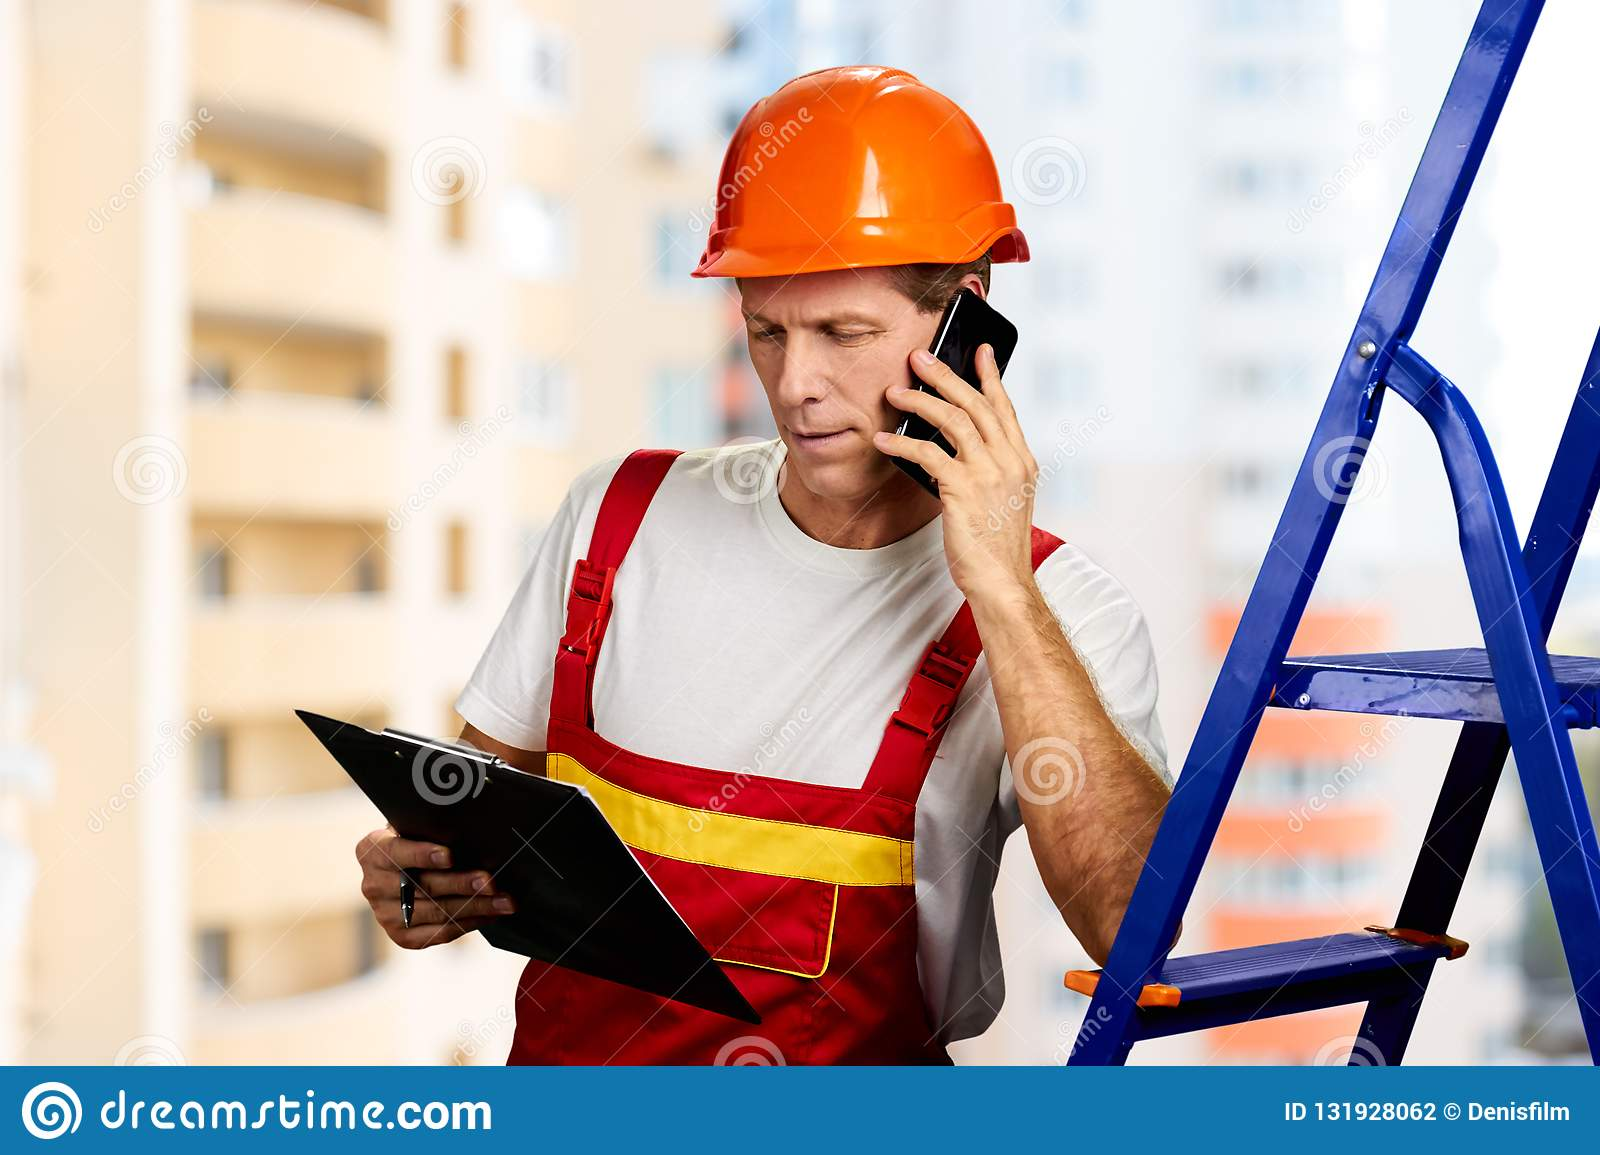phone: (887, 291, 1017, 515)
talk: (742, 286, 1037, 604)
